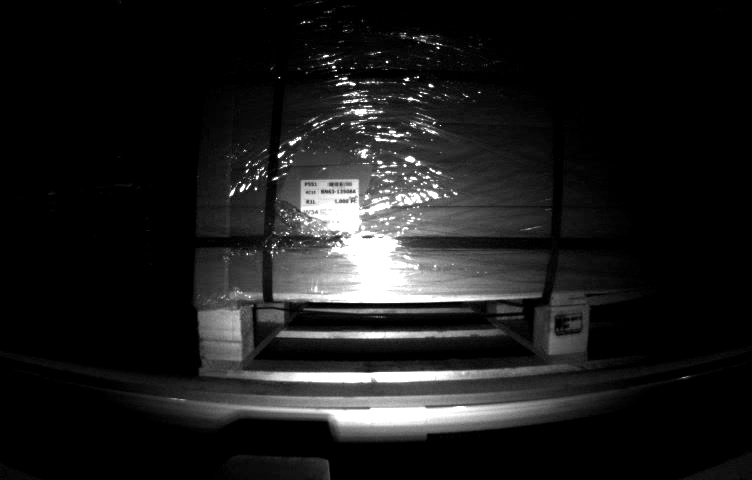True Barcode: (297, 172, 366, 239)
